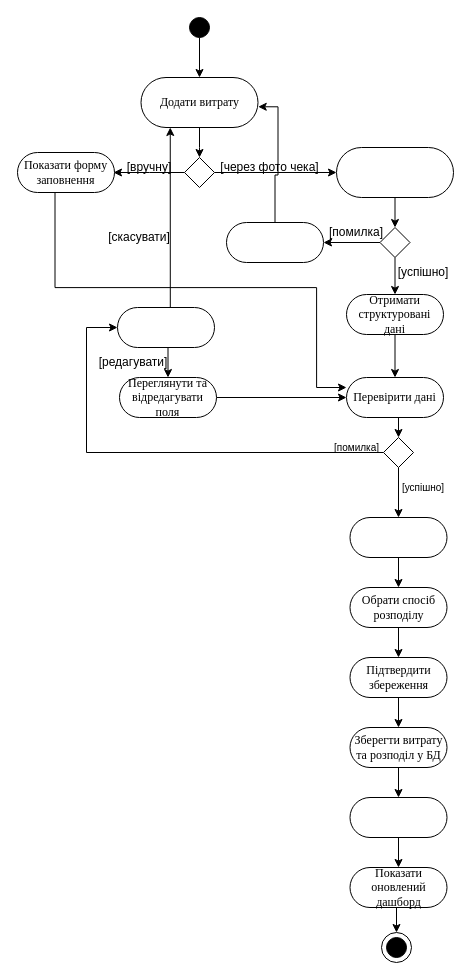
Some shapes in this 471 by 980 pixel diagram are drawn without their labels. Here are the shapes that lost their labels. From the top down, the centre of each, then its label:
point 395,172: Завантажити фото для Gemini API
point 275,242: Спробувати ще раз
point 165,327: Позначити невідповідні поля попередженням
point 398,537: Показати форму перегляду
point 398,817: Перерахувати баланси
